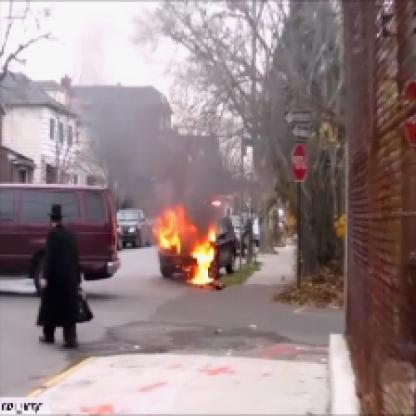Fire: (156, 188, 225, 286)
